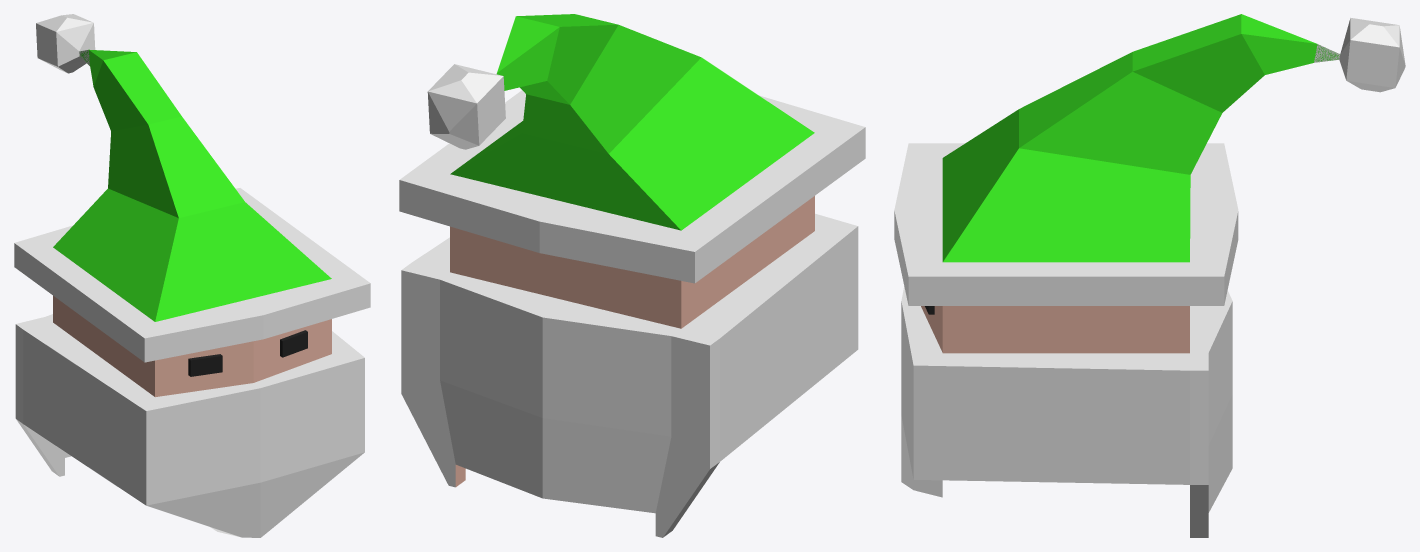
The model's file is santaclaus.glb.
3 renders of one model, left to right at view 1: azimuth 30°, elevation 25°; view 2: azimuth 150°, elevation 25°; view 3: azimuth 270°, elevation 25°, orthographic. The views are drawn at different scales.
Visible parts, largest first — view 1: Cube; view 2: Cube; view 3: Cube.
Boxes of the visible parts, left/top/right/bottom form: Cube: left=14, top=14, right=370, bottom=537; Cube: left=399, top=14, right=865, bottom=537; Cube: left=894, top=14, right=1405, bottom=537.
Size of the model in its own units: 2.67 by 4.16 by 4.14.
Materials: 1 (1 with a texture image).
